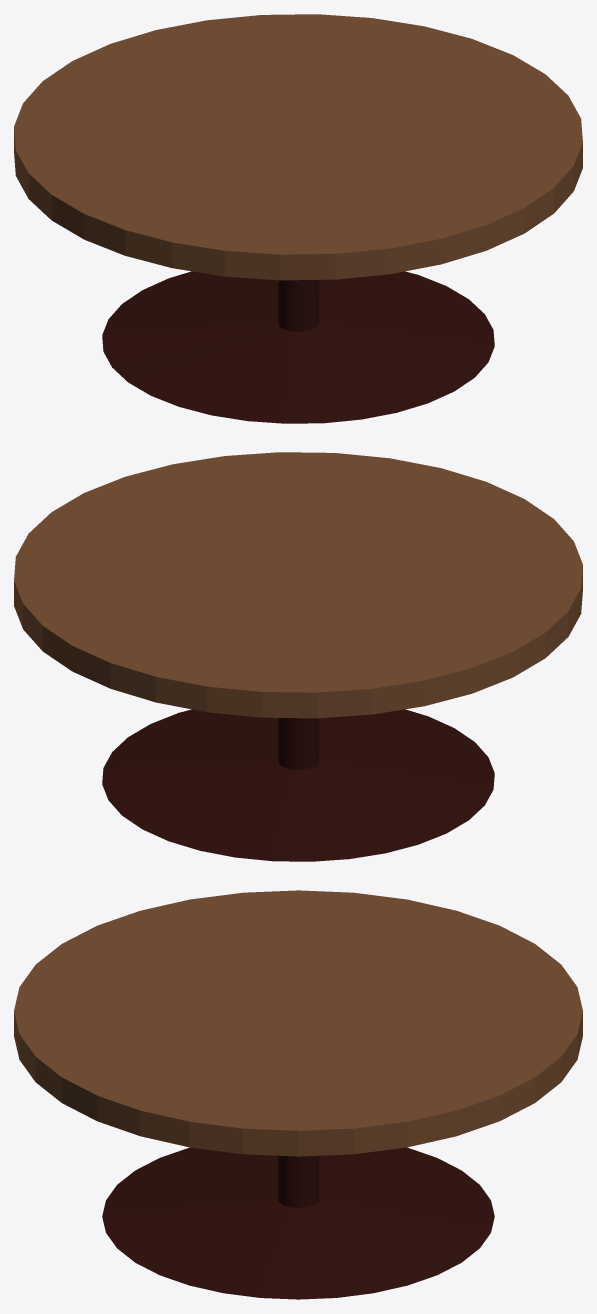
File: Round_Table - Final.fbx
3 views of the same model, one above another, from view 1: azimuth 30°, elevation 25°; view 2: azimuth 150°, elevation 25°; view 3: azimuth 270°, elevation 25° (orthographic).
Visible parts, largest first — view 1: Table_Round; view 2: Table_Round; view 3: Table_Round.
Part boxes in pixels (bbox=[...]): Table_Round: bbox=[14, 14, 582, 423]; Table_Round: bbox=[14, 452, 582, 861]; Table_Round: bbox=[14, 890, 582, 1299].
Bounding box in the file's own units: 326 × 130 × 326.
